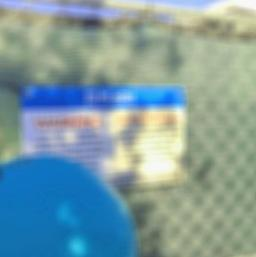algae: (0, 150, 131, 257)
